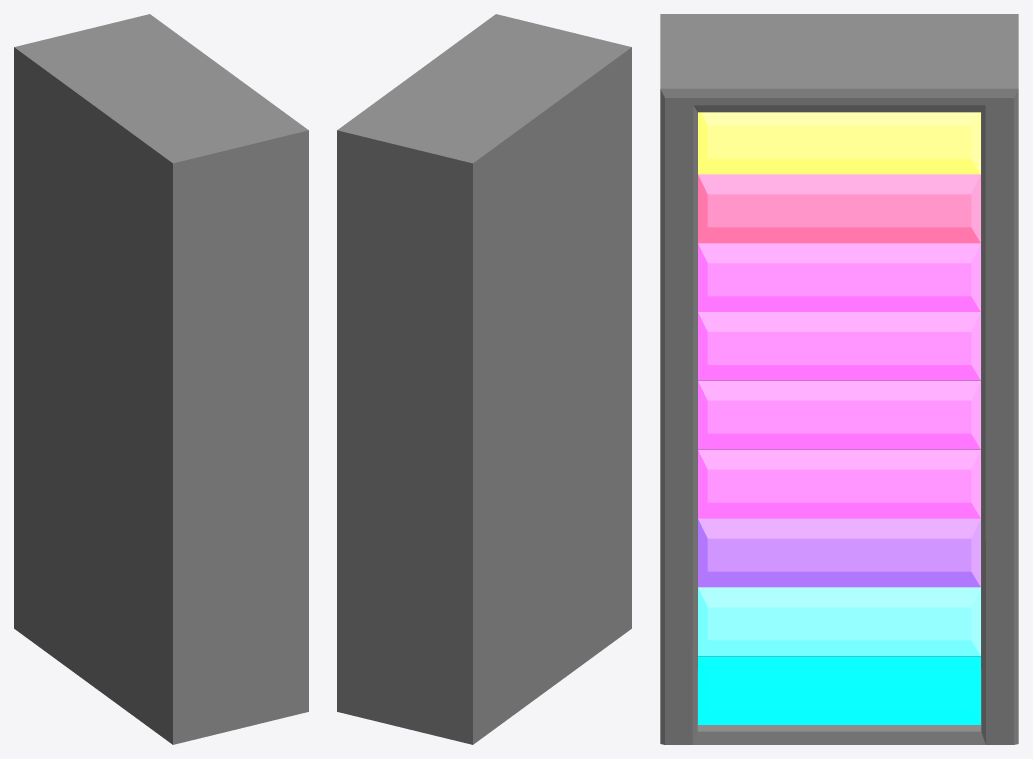
Rendered from Visualizador de sonido.fbx.
3 views of the same model, side by side, from view 1: azimuth 30°, elevation 25°; view 2: azimuth 150°, elevation 25°; view 3: azimuth 270°, elevation 25° (orthographic). The views are drawn at different scales.
Visible parts, largest first — view 1: Cube; view 2: Cube; view 3: Cube, Cube.003, Cube.008, Cube.001, Cube.002, Cube.004, Cube.005, Cube.006, Cube.007, Cube.009.
Part boxes in pixels (x1,y1,x2,y2): Cube: (14,14,308,744); Cube: (337,14,631,744); Cube: (660,14,1018,744); Cube.003: (698,518,980,587); Cube.008: (698,174,980,243); Cube.001: (698,656,980,724); Cube.002: (698,587,980,655); Cube.004: (698,450,980,518); Cube.005: (698,381,980,449); Cube.006: (698,312,980,380); Cube.007: (698,243,980,311); Cube.009: (698,112,980,174).
Bounding box in the file's own units: 200 × 808 × 400.
